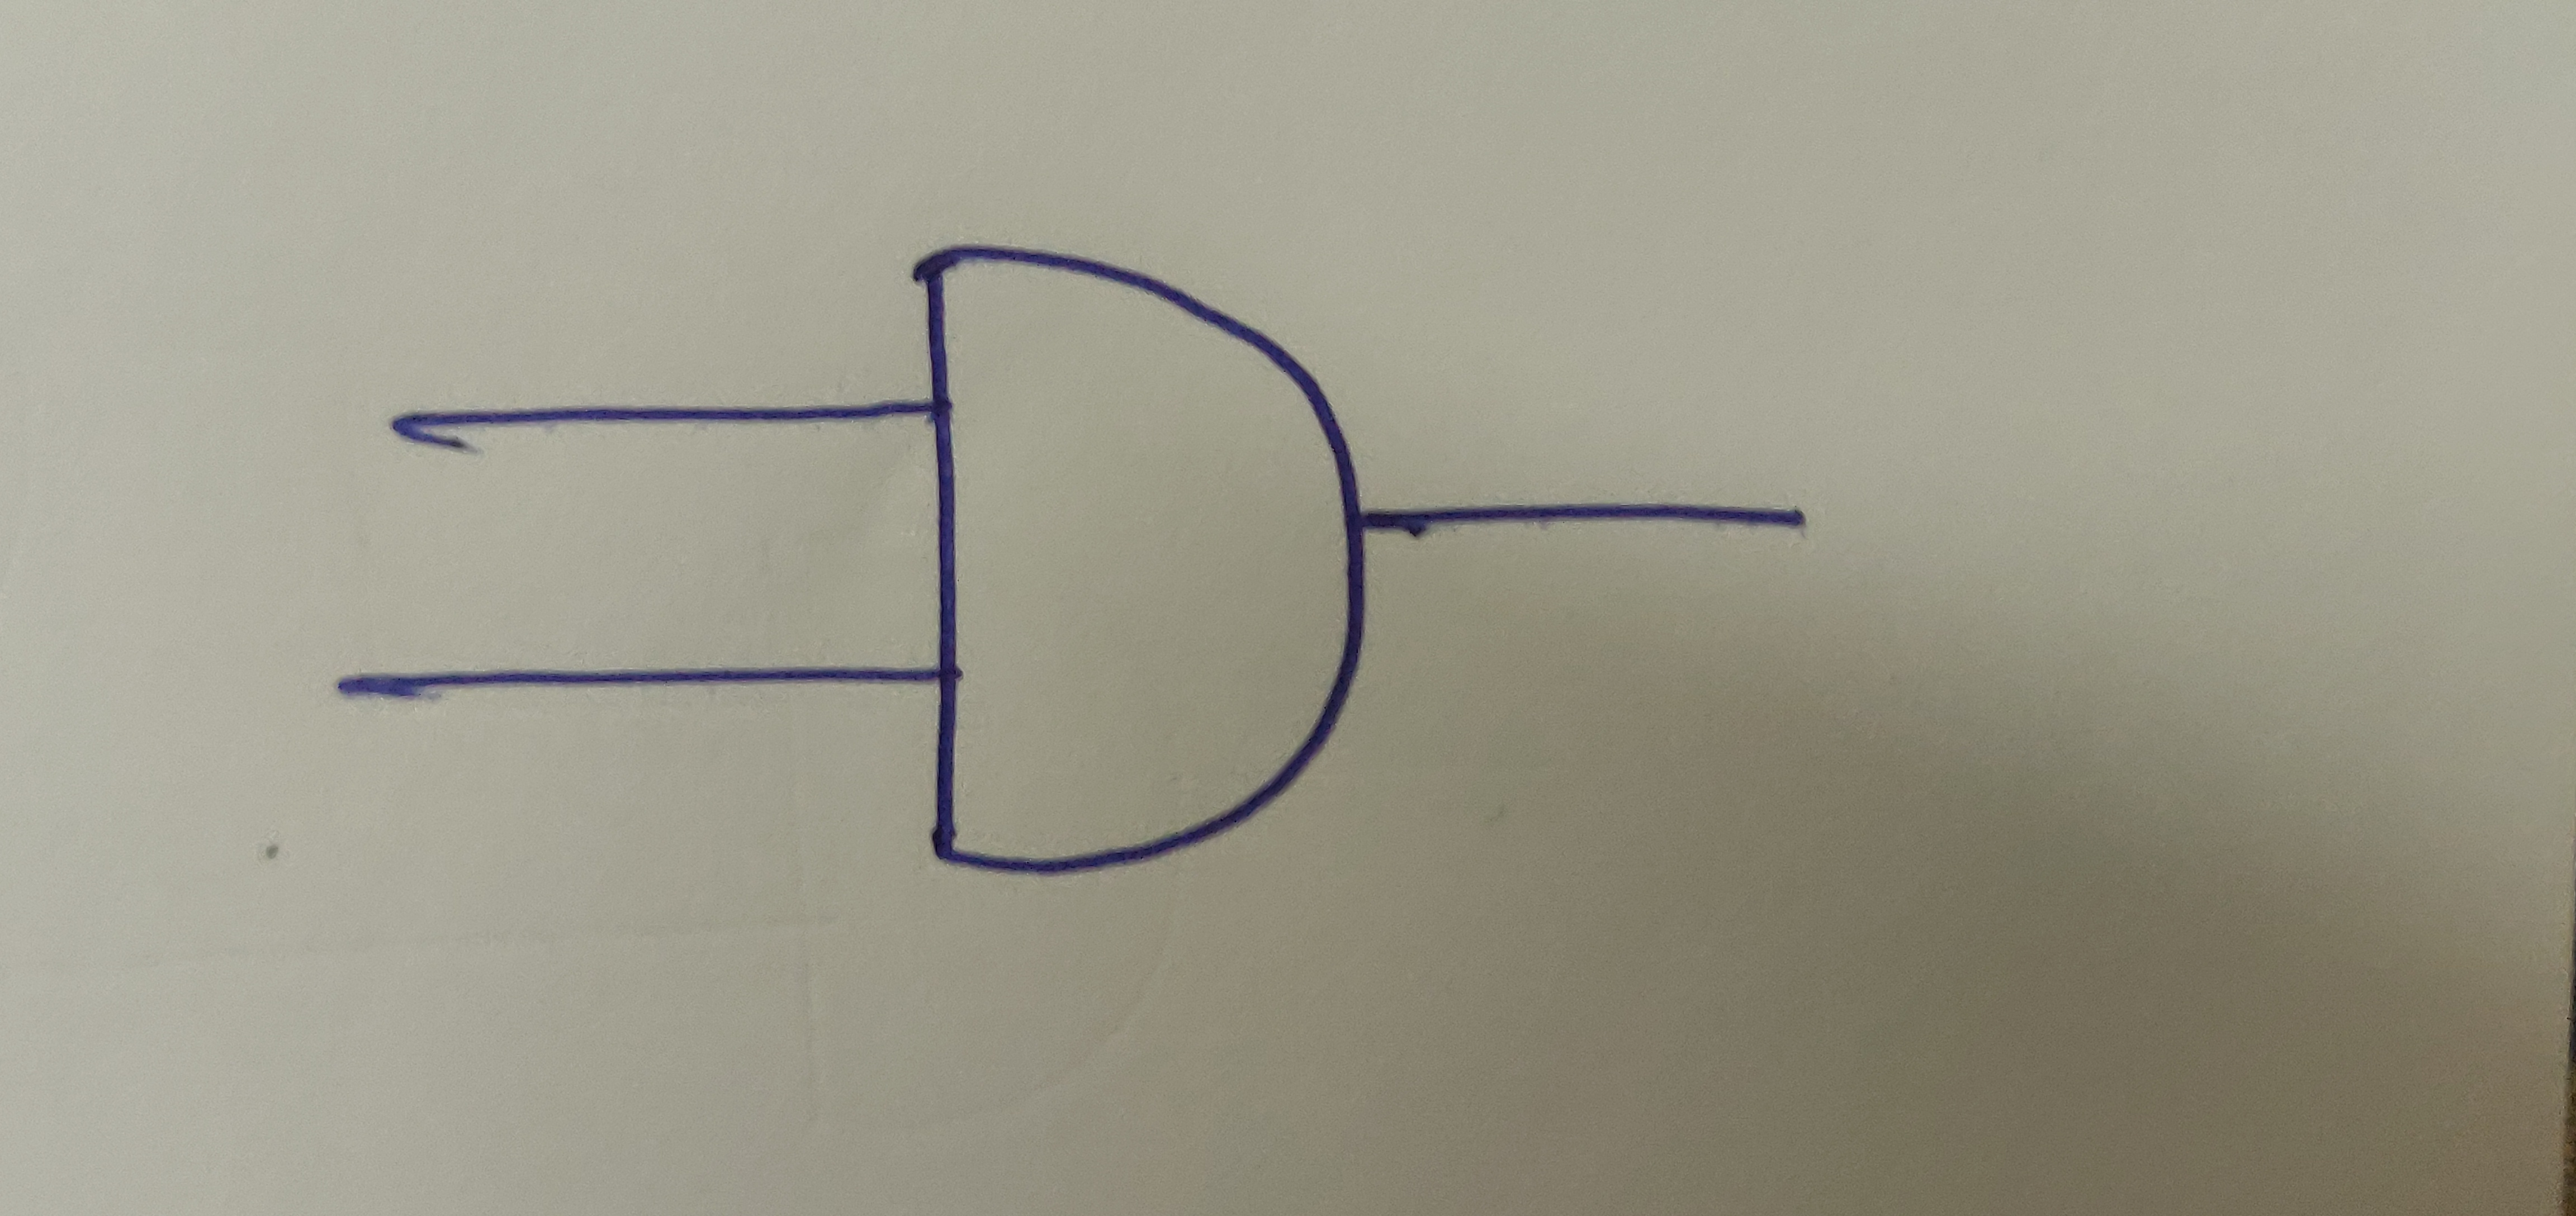and: (913, 240, 1373, 874)
